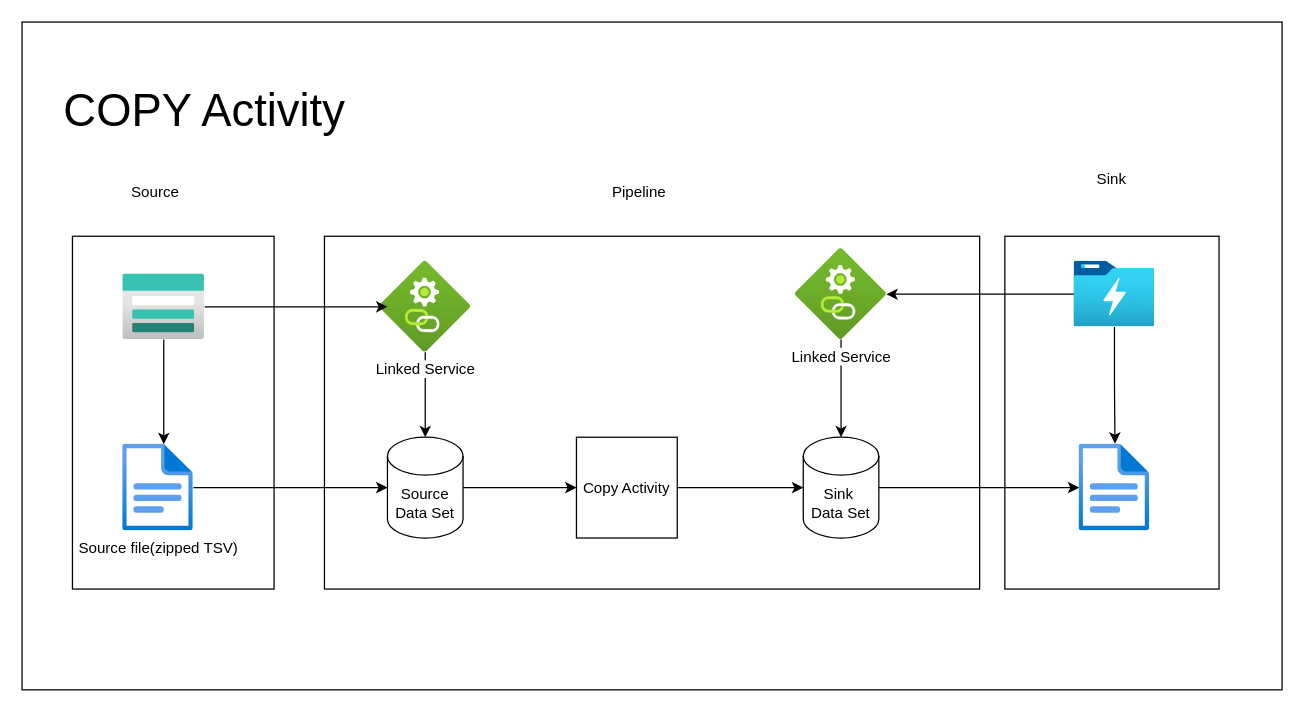
Some shapes in this 1304 by 712 pixel diagram are drawn without their labels. The shapes that lost their labels are listed below. From the top down, each one's box as (x1, y1, x2, y2) in pixels, then its label:
(122, 273, 204, 339): Azure Blob Storage
(1074, 261, 1154, 326): Azure Data Lake
(1079, 444, 1149, 530): Target file( TSV)
